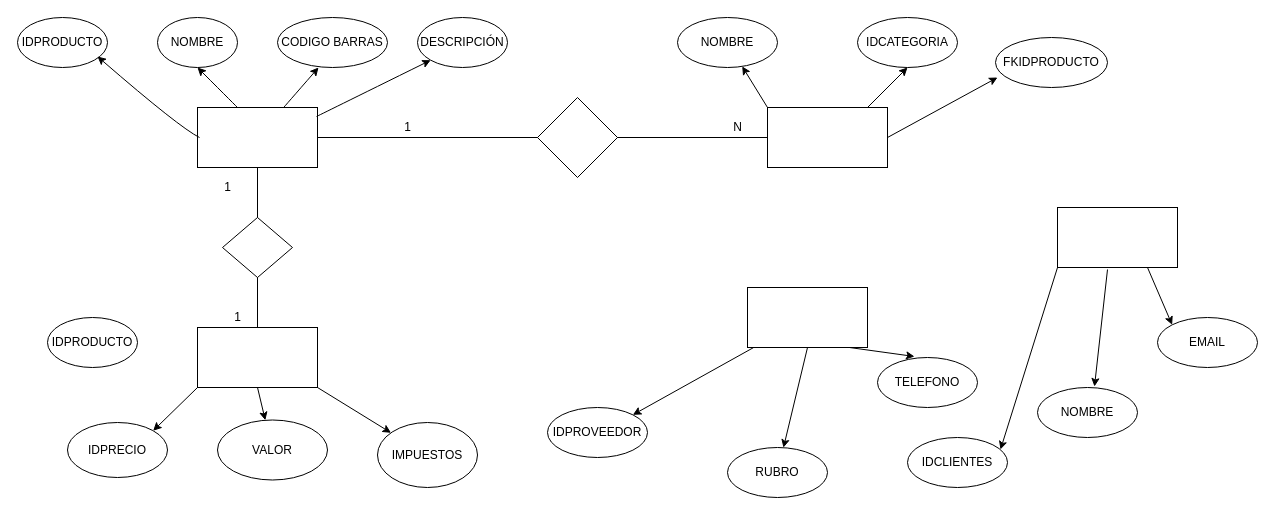
Some shapes in this 1275 by 515 pixel diagram are drawn without their labels. Here are the shapes that lost their labels. From the top down, the centre of each, then its label:
At (x=257, y=137): "PRODUCTO".
At (x=577, y=137): "asociada".
At (x=827, y=137): "CATEGORIAS".
At (x=257, y=247): "tiene".
At (x=1117, y=237): "CLIENTES".
At (x=807, y=317): "PROVEEDORES".
At (x=257, y=357): "PRECIOS".
